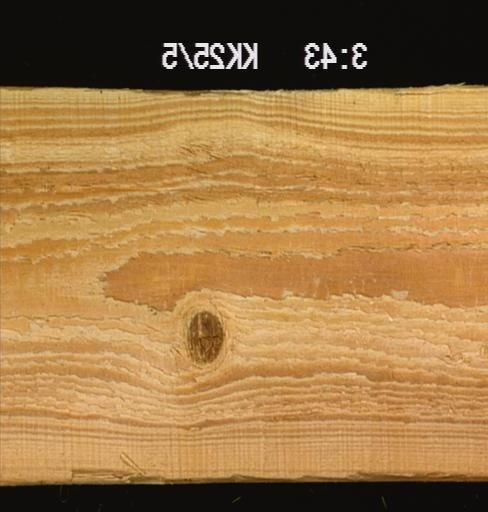sound_knot: (181, 308, 225, 364)
wave: (64, 468, 486, 484), (114, 85, 382, 96)
